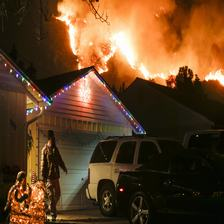fire: (45, 4, 221, 88)
